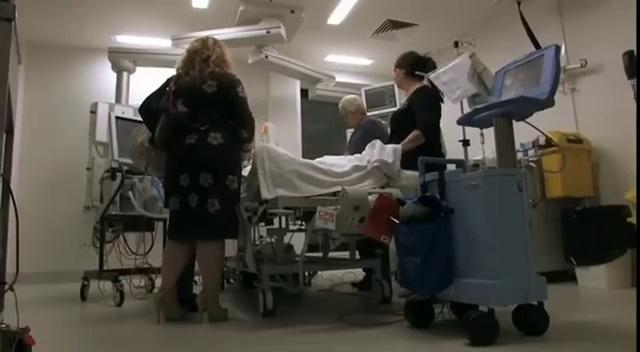others: (137, 35, 256, 324), (384, 49, 447, 172)
